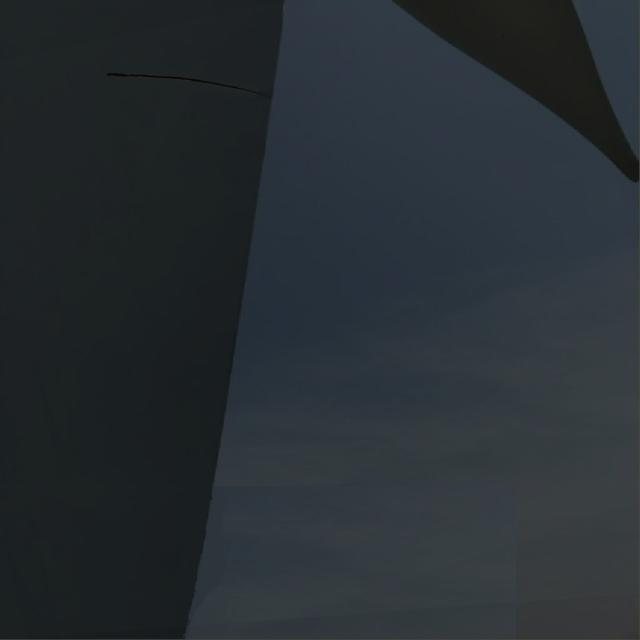crack: (106, 70, 269, 100)
